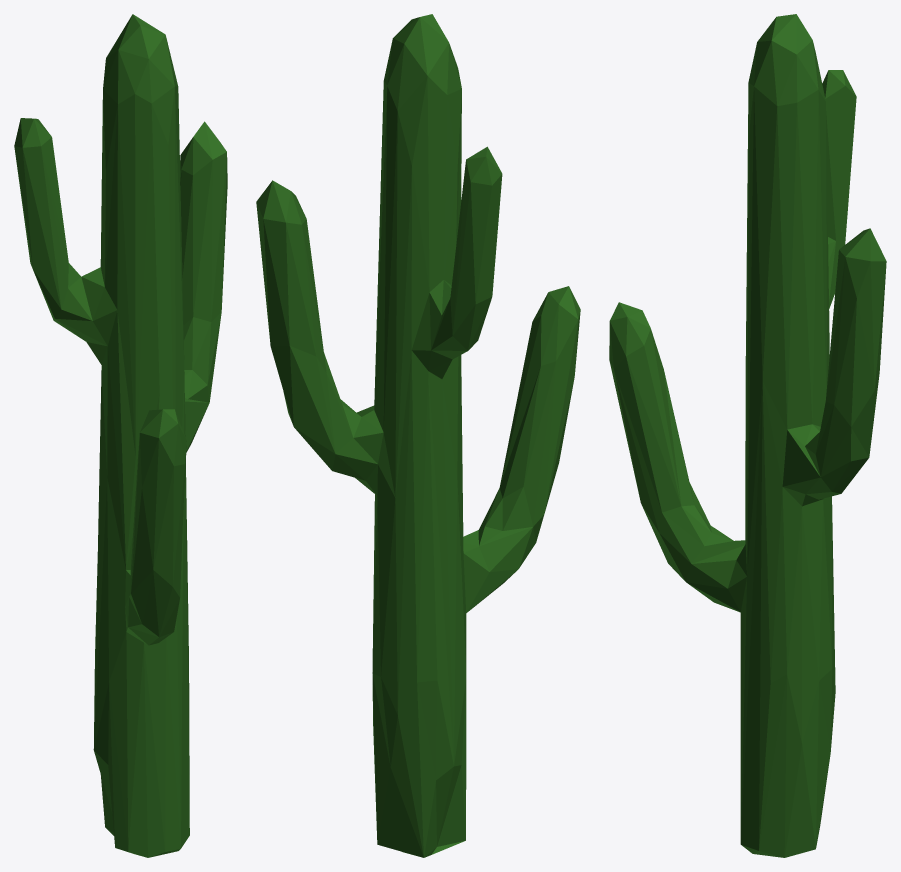
The model's file is SM_cactus_01.fbx.
3 renders of one model, left to right at view 1: azimuth 30°, elevation 25°; view 2: azimuth 150°, elevation 25°; view 3: azimuth 270°, elevation 25°, orthographic.
Parts seen in each view (by area): view 1: Object219; view 2: Object219; view 3: Object219.
Part boxes in pixels (x1=…): Object219: x1=14, y1=14, x2=227, y2=857; Object219: x1=256, y1=14, x2=580, y2=857; Object219: x1=609, y1=14, x2=886, y2=857.
Bounding box in the file's own units: 37.67 × 40.89 × 135.
